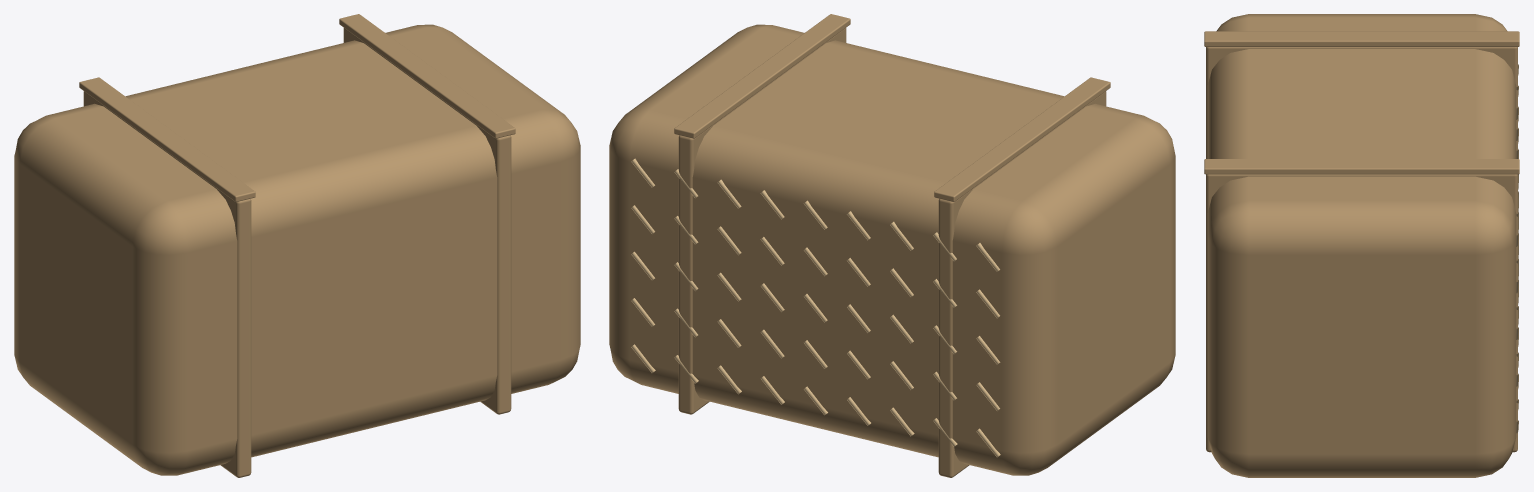
The model's file is mushroom-farm-and-grow-rooms-substrate-bale-228a513c__30802.glb.
3 views of the same model, side by side, from view 1: azimuth 30°, elevation 25°; view 2: azimuth 150°, elevation 25°; view 3: azimuth 270°, elevation 25° (orthographic).
Parts seen in each view (by area): view 1: substrate-bale; view 2: substrate-bale; view 3: substrate-bale.
Part boxes in pixels (box(x1,y1,x2,y2)): substrate-bale: box(14, 14, 580, 477); substrate-bale: box(609, 14, 1175, 477); substrate-bale: box(1204, 14, 1519, 477).
Size of the model in its own units: 0.75 by 0.46 by 0.46.
